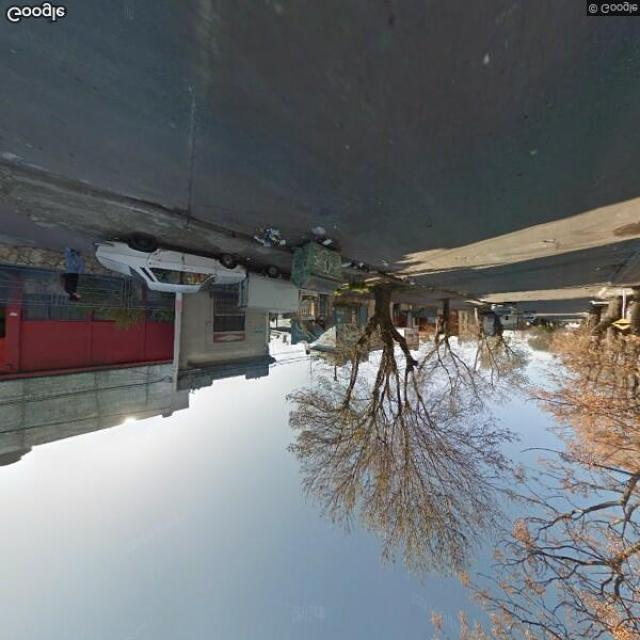garbage container: (285, 236, 354, 301)
